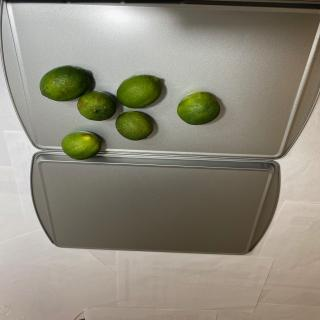Lemon: (39, 65, 90, 102), (116, 74, 162, 109), (177, 92, 220, 125), (115, 111, 154, 141), (77, 91, 116, 121), (61, 131, 101, 160)
